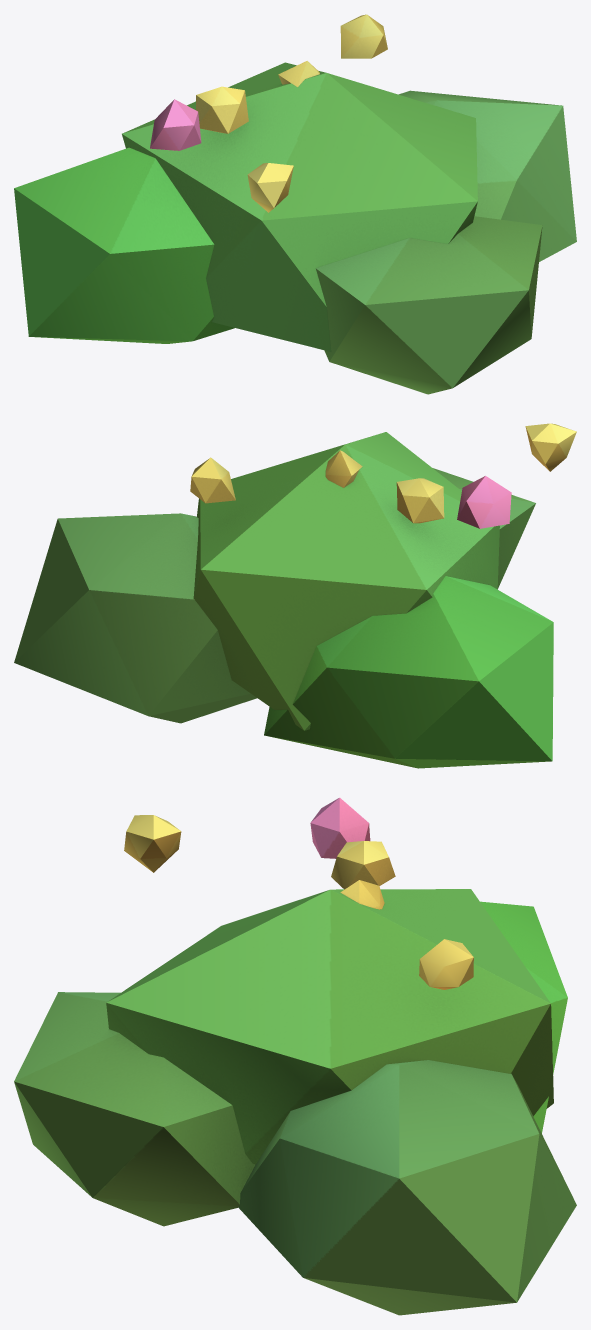
File: scenery_bush_1.fbx
3 views of the same model, one above another, from view 1: azimuth 30°, elevation 25°; view 2: azimuth 150°, elevation 25°; view 3: azimuth 270°, elevation 25° (orthographic). The views are drawn at different scales.
Parts seen in each view (by area): view 1: scenery_bush_1_body; view 2: scenery_bush_1_body; view 3: scenery_bush_1_body.
Part boxes in pixels (bbox=[...]): scenery_bush_1_body: bbox=[14, 14, 576, 394]; scenery_bush_1_body: bbox=[14, 423, 576, 768]; scenery_bush_1_body: bbox=[14, 797, 576, 1315].
Size of the model in its own units: 462 by 259 by 373.
1 material, 1 textured.
